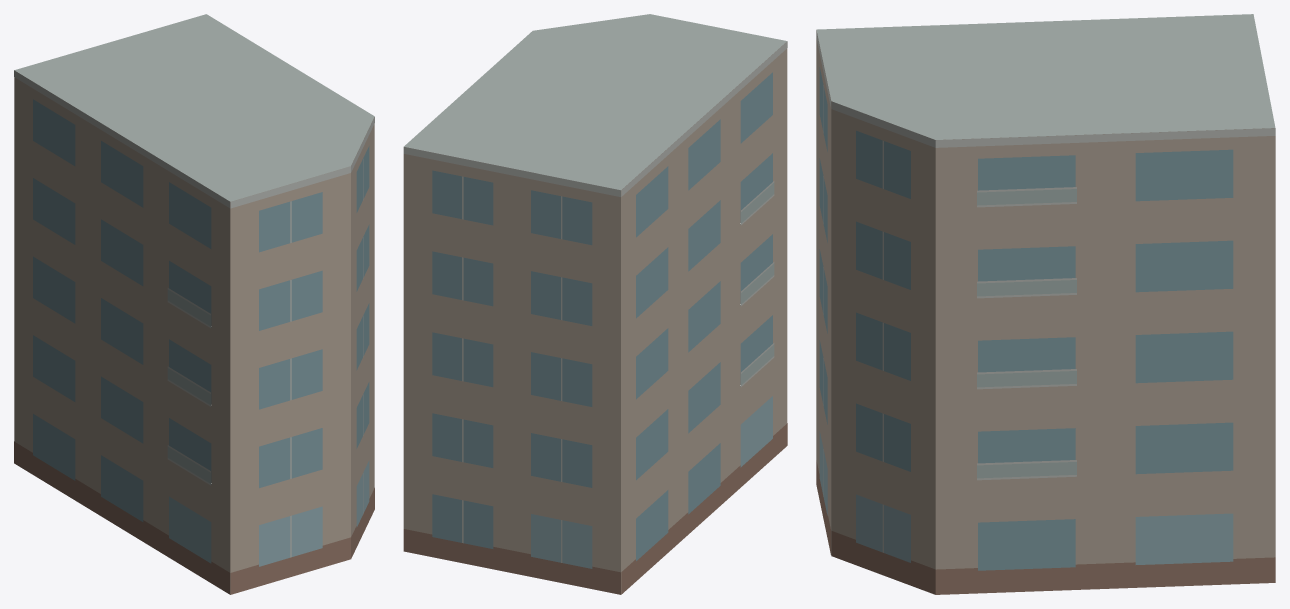
Rendered from survey-upis-32735007.glb.
The picture shows the model from 3 angles, left to right: view 1: azimuth 30°, elevation 25°; view 2: azimuth 150°, elevation 25°; view 3: azimuth 270°, elevation 25°; orthographic projection. The views are drawn at different scales.
Visible parts, largest first — view 1: survey-upis-32735007.tmp; view 2: survey-upis-32735007.tmp; view 3: survey-upis-32735007.tmp.
Boxes of the visible parts, box(x1,y1,x2,y2) form: survey-upis-32735007.tmp: box(14, 14, 374, 594); survey-upis-32735007.tmp: box(403, 14, 787, 594); survey-upis-32735007.tmp: box(816, 14, 1275, 594).
Size of the model in its own units: 8.39 by 14.1 by 12.91.
